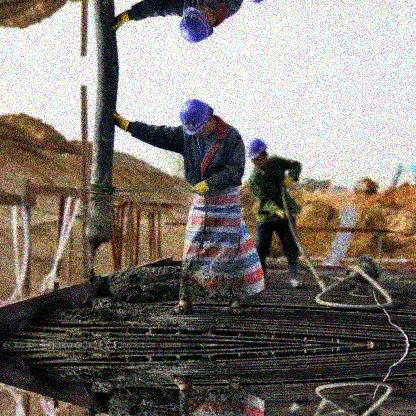helmet: (178, 1, 220, 44), (180, 98, 216, 142), (249, 138, 272, 173)
